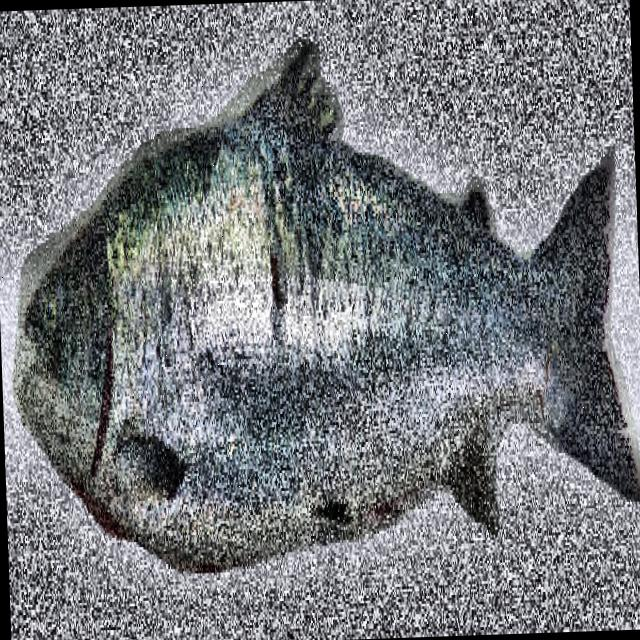mild_red: (110, 122, 561, 558)
